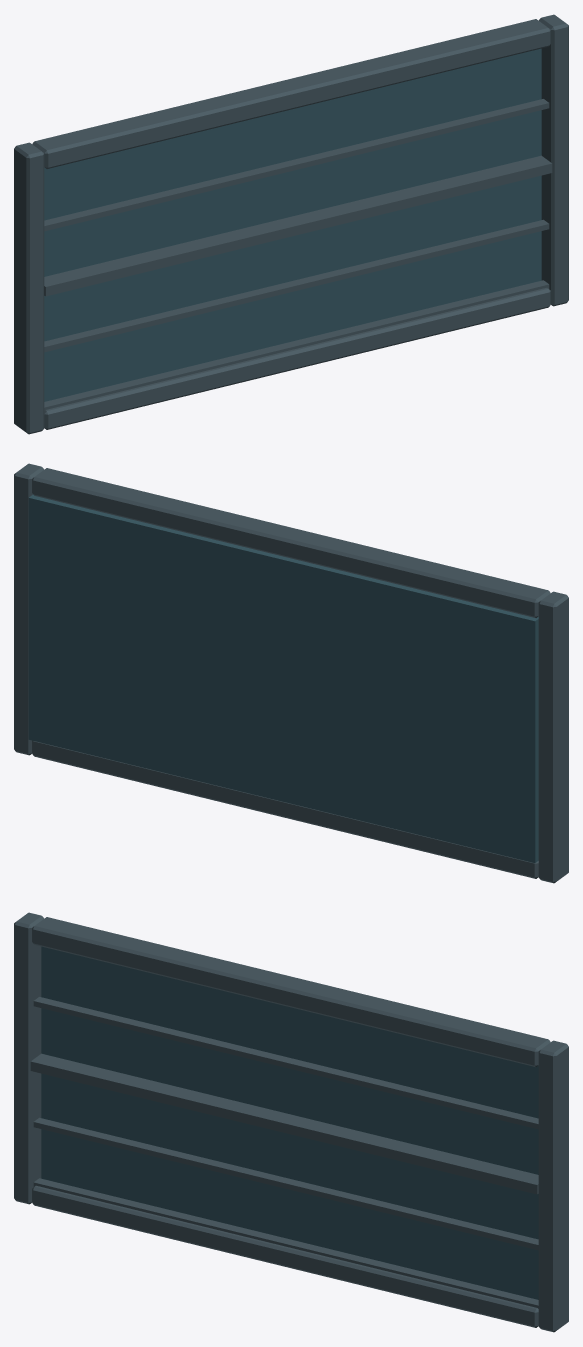
File: window_23.glb
The picture shows the model from 3 angles, top to bottom: view 1: azimuth 30°, elevation 25°; view 2: azimuth 150°, elevation 25°; view 3: azimuth 330°, elevation 25°; orthographic projection.
Visible parts, largest first — view 1: window_23; view 2: window_23; view 3: window_23.
Part boxes in pixels (left/top/right/bottom): window_23: left=14, top=14, right=568, bottom=434; window_23: left=14, top=463, right=568, bottom=883; window_23: left=14, top=912, right=568, bottom=1332.
Bounding box in the file's own units: 2.7 × 1.33 × 0.1475.
